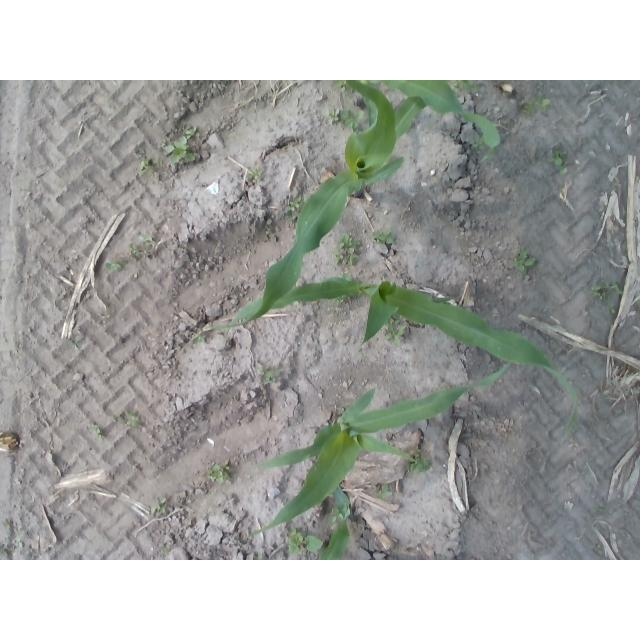Maize: (226, 276, 579, 436), (207, 81, 405, 332), (248, 360, 512, 536), (360, 80, 500, 162), (318, 486, 350, 560)
Weeds: (203, 461, 232, 483), (165, 145, 195, 163), (515, 248, 536, 272), (288, 527, 305, 554), (385, 324, 406, 345), (339, 234, 361, 254), (372, 228, 396, 244), (345, 110, 364, 128), (409, 457, 430, 472), (140, 157, 156, 175), (307, 535, 324, 551), (151, 496, 165, 515), (548, 152, 565, 167), (126, 412, 143, 427), (602, 283, 623, 295), (139, 235, 154, 249), (286, 198, 302, 211), (172, 136, 188, 149), (345, 251, 359, 265), (328, 109, 341, 124), (535, 94, 551, 106), (380, 484, 393, 498), (473, 136, 486, 149), (331, 252, 344, 265), (249, 168, 263, 180), (332, 509, 344, 523), (130, 244, 142, 257), (525, 101, 539, 112), (74, 334, 83, 350), (556, 163, 569, 174), (337, 80, 348, 92), (187, 128, 198, 139), (192, 334, 205, 343), (593, 545, 603, 556), (270, 368, 282, 377), (116, 412, 126, 422), (264, 370, 272, 382), (16, 538, 25, 548), (118, 260, 127, 270), (265, 226, 275, 235), (285, 215, 295, 224), (161, 546, 171, 555), (335, 297, 345, 306), (590, 286, 600, 295), (455, 80, 466, 88), (255, 552, 266, 560), (340, 109, 348, 120), (592, 506, 604, 513), (578, 471, 590, 478), (607, 302, 615, 312), (464, 81, 472, 91), (91, 428, 101, 436), (2, 549, 9, 560), (388, 319, 400, 325), (135, 150, 146, 156), (414, 448, 422, 456), (257, 365, 267, 371), (2, 526, 10, 533), (108, 264, 115, 271), (342, 273, 350, 279), (598, 292, 606, 298), (113, 264, 121, 269), (157, 159, 163, 165), (99, 435, 105, 441), (133, 274, 139, 279), (112, 418, 117, 421)
